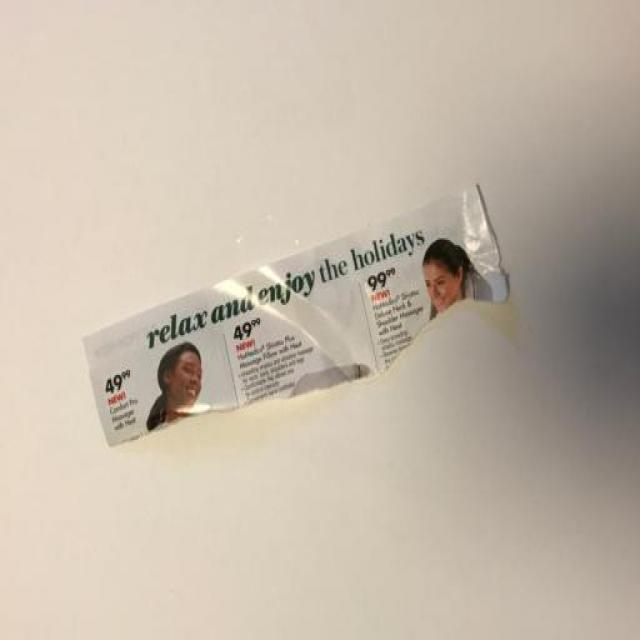paper: (76, 172, 562, 487)
